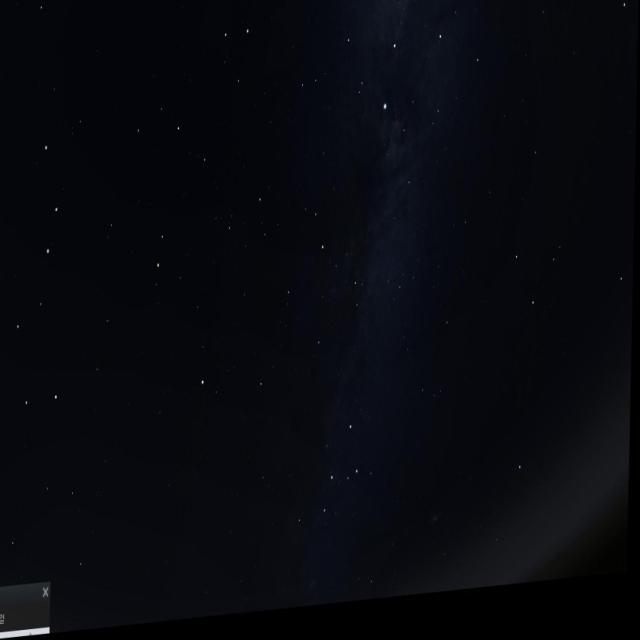cassiopeia: (288, 414, 382, 565)
cygnus: (339, 0, 452, 140)
ursa_major: (2, 110, 82, 449)
